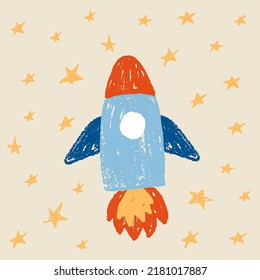roket: (63, 54, 201, 240)
